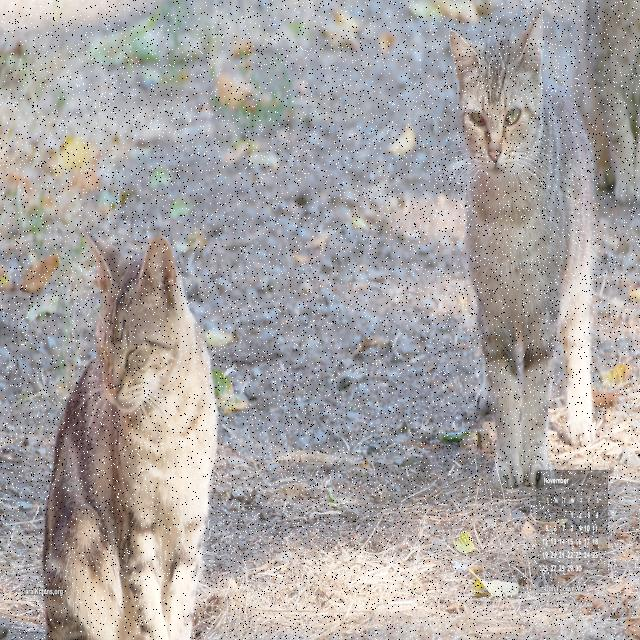cat: (42, 232, 218, 640), (450, 12, 594, 488)
